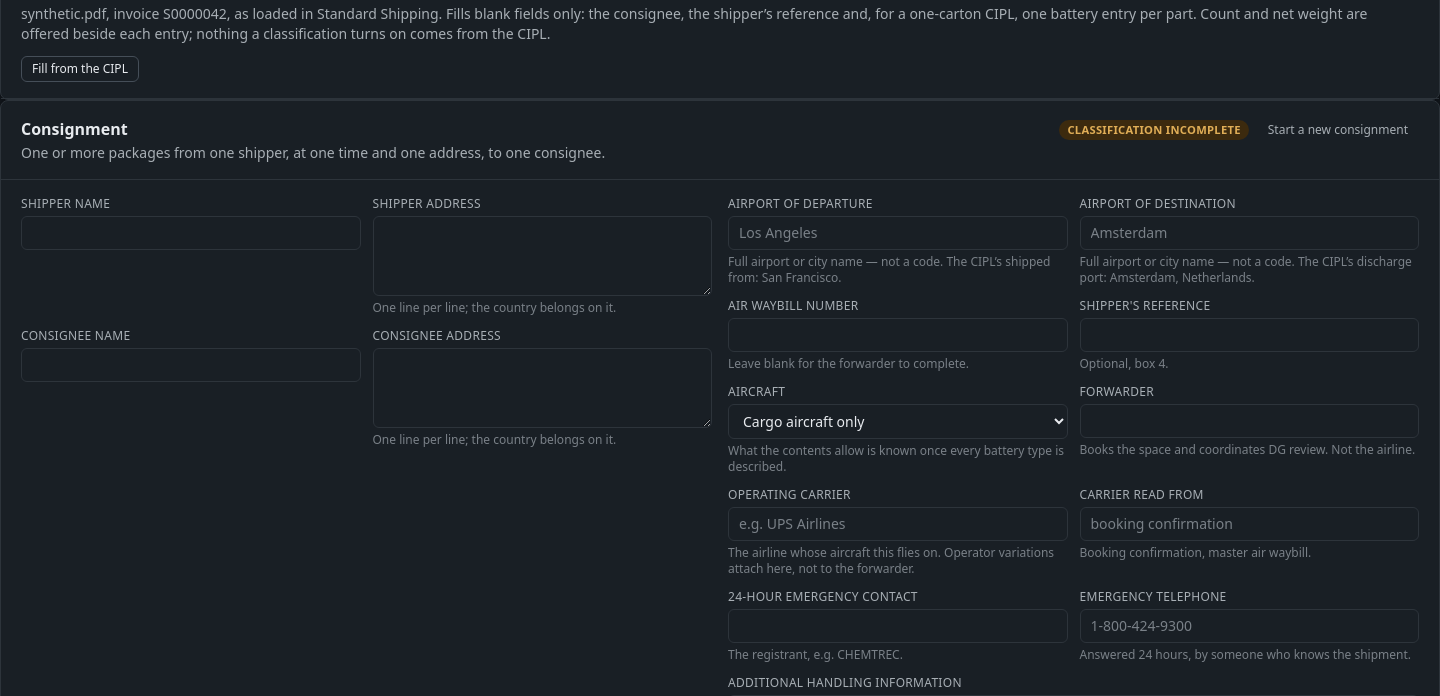
Test: filling the consignment from the CIPL › offers no package count once there is a second package description
This screenshot has width=1440, height=696.
Click the button "Fill from the CIPL" at (80, 69), box x1=21 y1=56 x2=139 y2=82
(page scrolled)
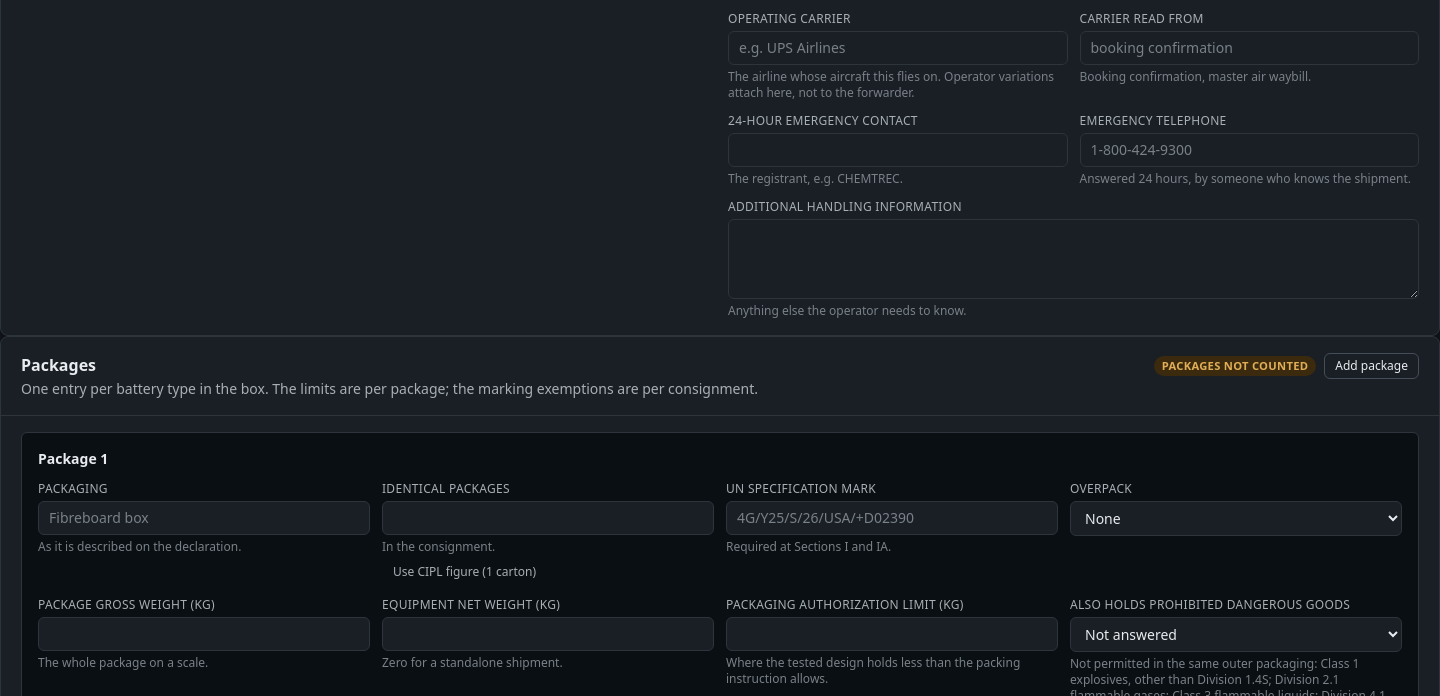
Click the button "Add package" at (1372, 366), box x1=1324 y1=353 x2=1419 y2=379
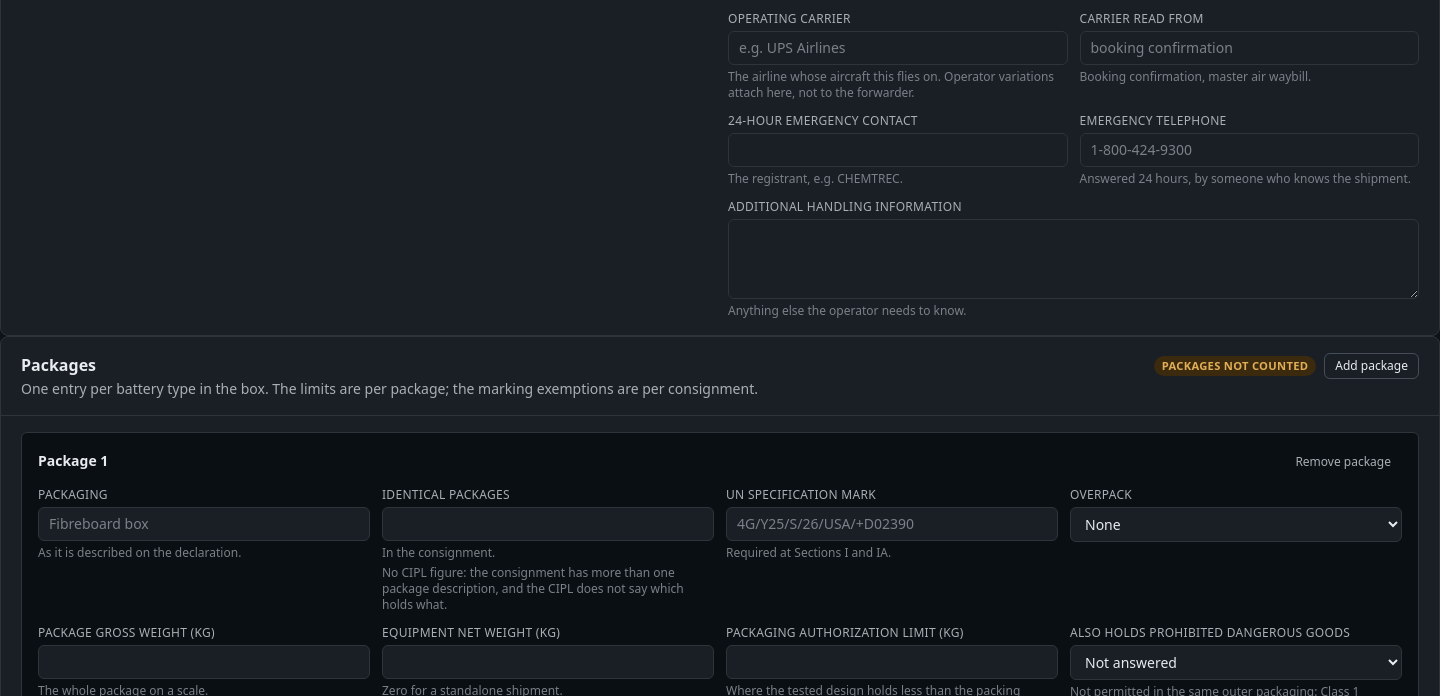
Result: the text "No CIPL figure: the consignment has more than one package description" is shown at x1=382 y1=565 x2=714 y2=613
